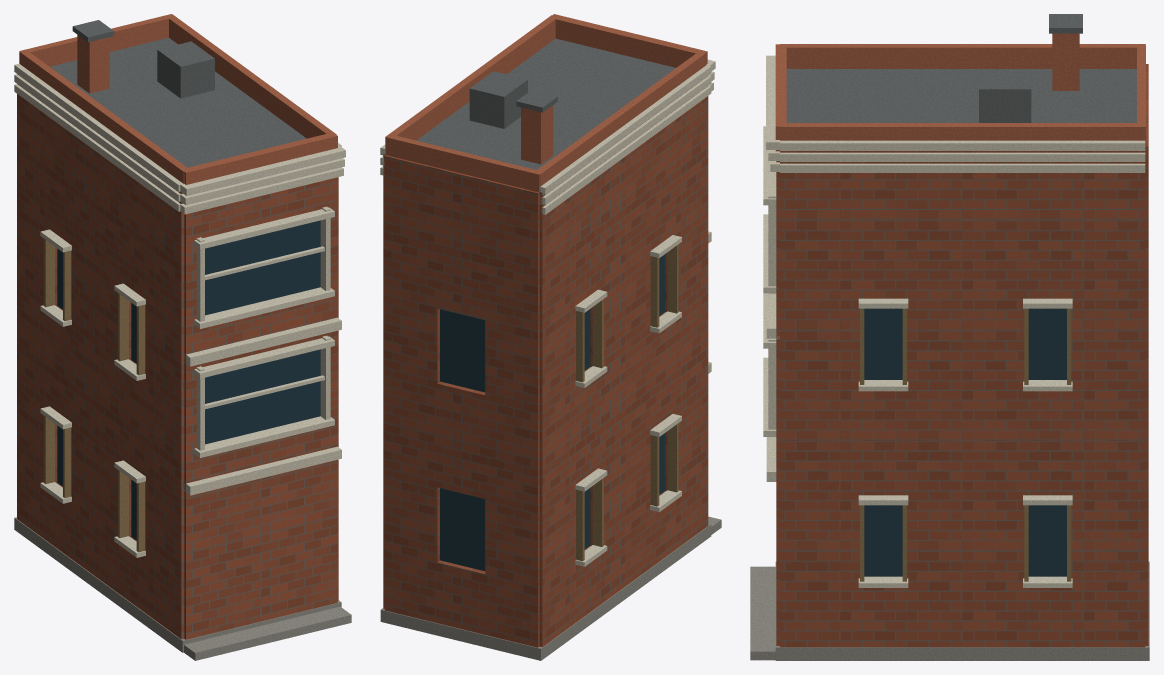
File: WRHS3_lod2.glb
The picture shows the model from 3 angles, left to right: view 1: azimuth 30°, elevation 25°; view 2: azimuth 150°, elevation 25°; view 3: azimuth 270°, elevation 25°; orthographic projection. The views are drawn at different scales.
Visible parts, largest first — view 1: WRHS3_LOD2; view 2: WRHS3_LOD2; view 3: WRHS3_LOD2.
Part boxes in pixels (x1,y1,x2,y2): WRHS3_LOD2: (14,14,351,660); WRHS3_LOD2: (380,14,721,660); WRHS3_LOD2: (750,14,1149,660).
Bounding box in the file's own units: 3.71 × 10.45 × 6.57.
Materials: 8 (6 with a texture image).
